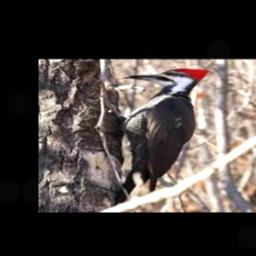Woodpecker: (117, 68, 209, 205)
